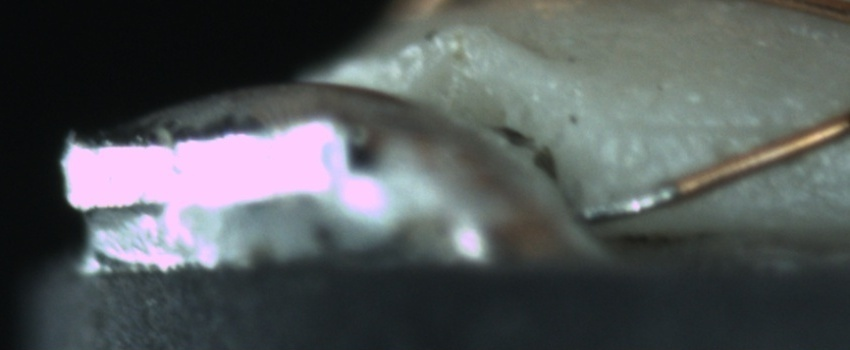DL: (621, 92, 843, 166)
TS: (577, 180, 683, 225)
